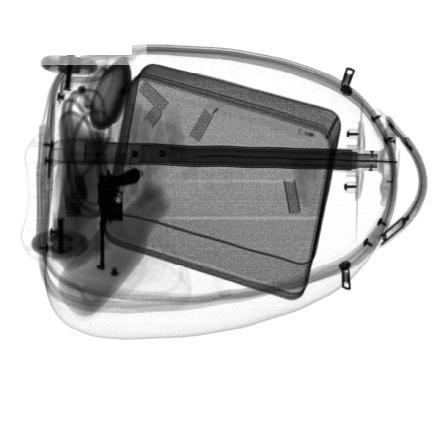Gun: (94, 167, 141, 273)
